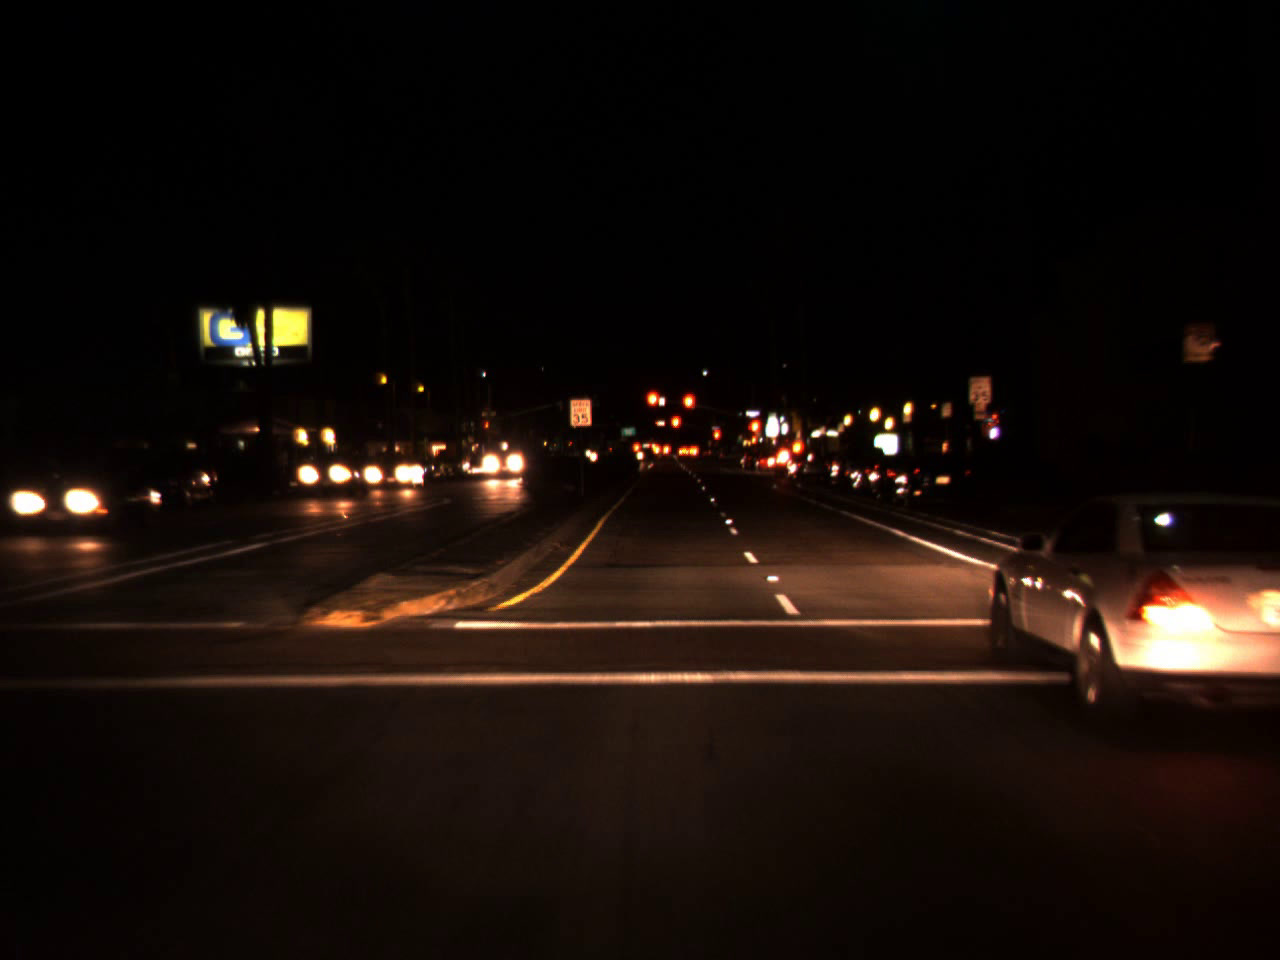stop: (645, 388, 663, 425), (746, 416, 762, 453), (680, 391, 696, 426), (669, 413, 682, 445), (711, 427, 723, 454), (483, 419, 489, 436)
